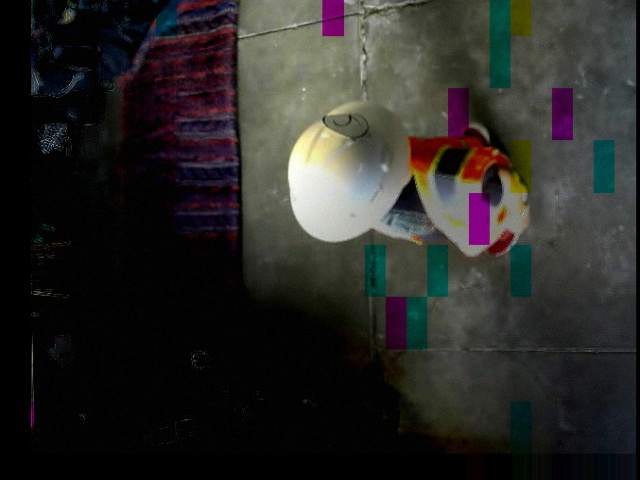two: (320, 111, 368, 137)
